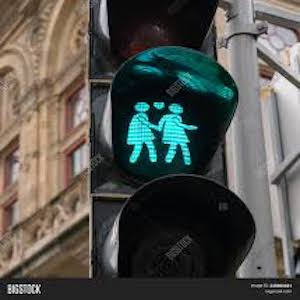green: (125, 95, 195, 161)
